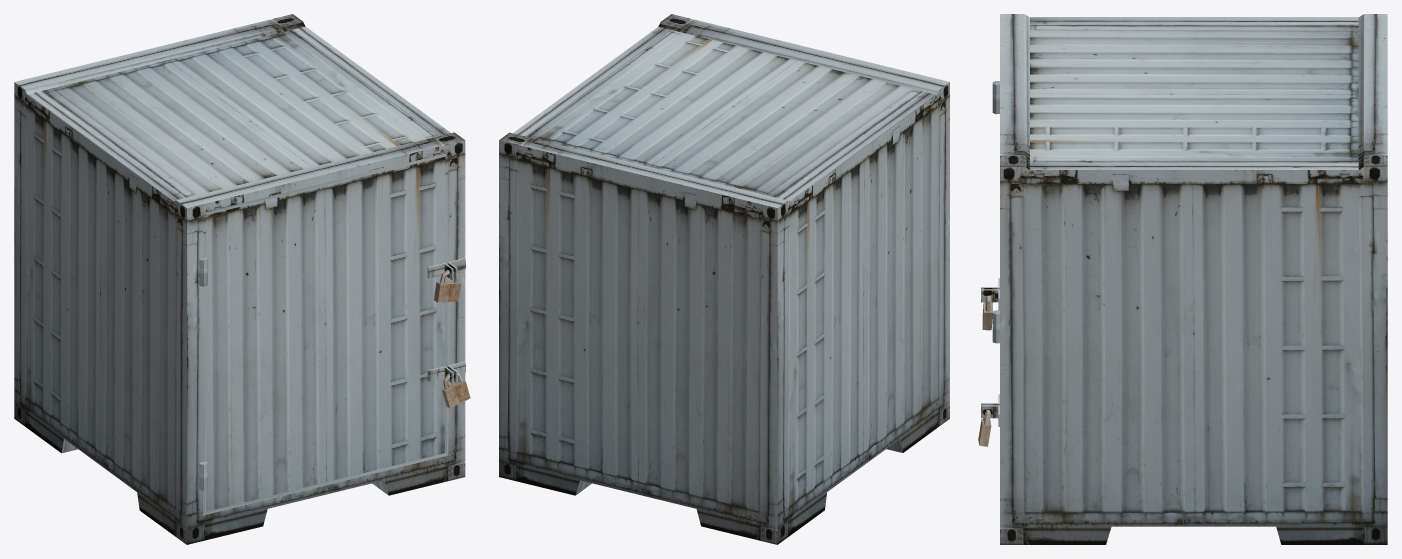
The model's file is Container_Box06.FBX.
3 renders of one model, left to right at view 1: azimuth 30°, elevation 25°; view 2: azimuth 150°, elevation 25°; view 3: azimuth 270°, elevation 25°, orthographic. The views are drawn at different scales.
Visible parts, largest first — view 1: Container_Box06; view 2: Container_Box06; view 3: Container_Box06.
Part boxes in pixels (x1,y1,x2,y2): Container_Box06: [14, 14, 470, 544]; Container_Box06: [499, 14, 949, 544]; Container_Box06: [978, 14, 1387, 544].
Bounding box in the file's own units: 98.81 × 114 × 112.
